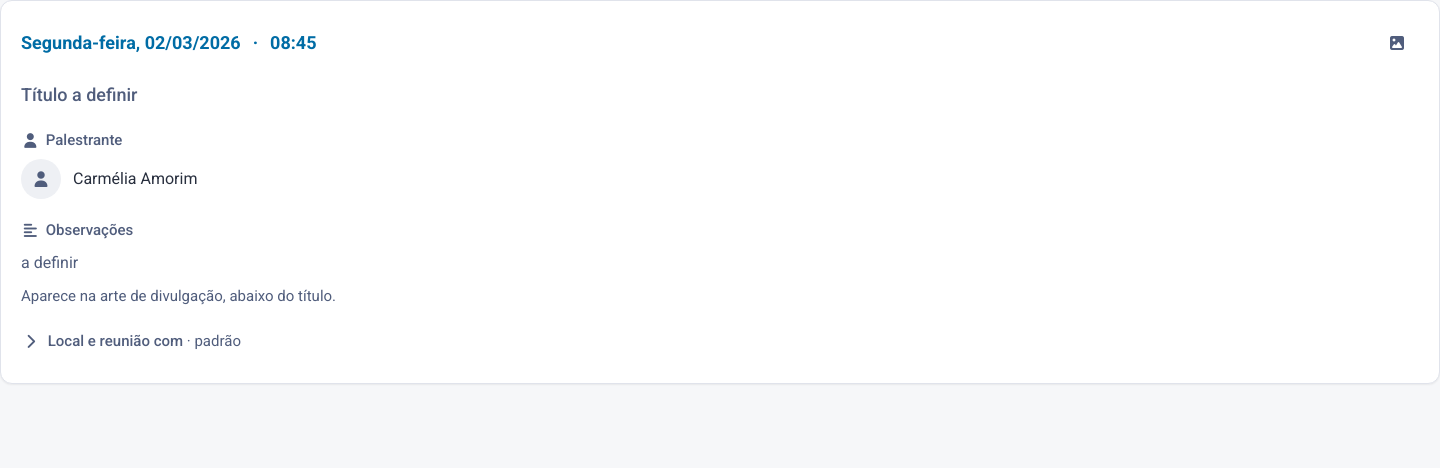
Test: TU-27 TalkCard art readiness › shows the readiness message in the card instead of opening the dialog
Click the button named "Gerar arte para redes sociais: Segunda-feira, 02/03/2026 · 0" at (1397, 43), box [1375,21,1419,65]
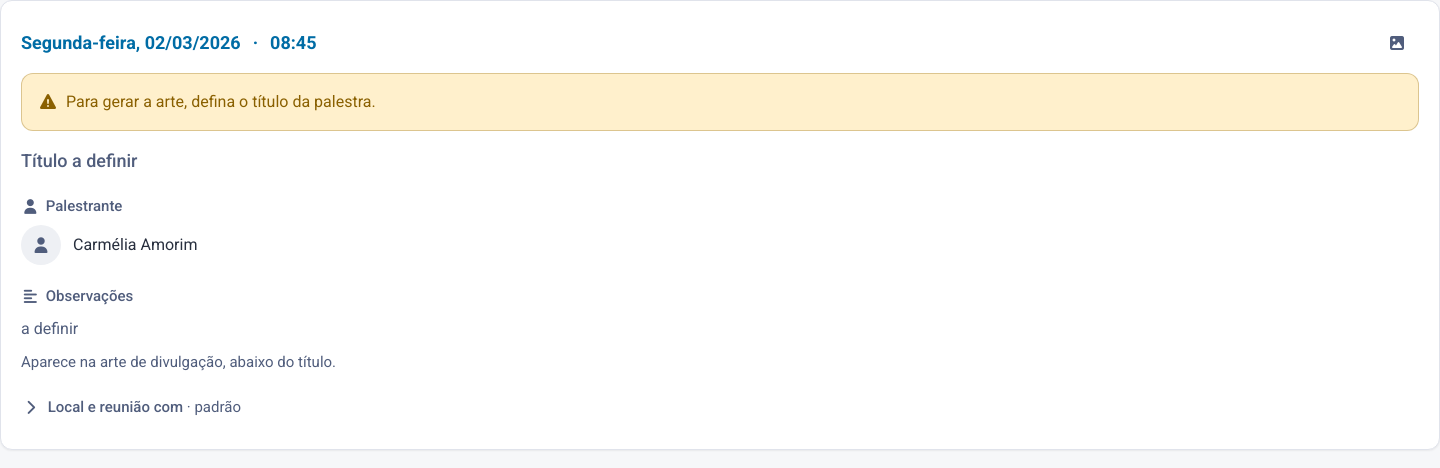
Expected: the message "Para gerar a arte, defina o título da palestra." is shown, [21,73,1419,131]
